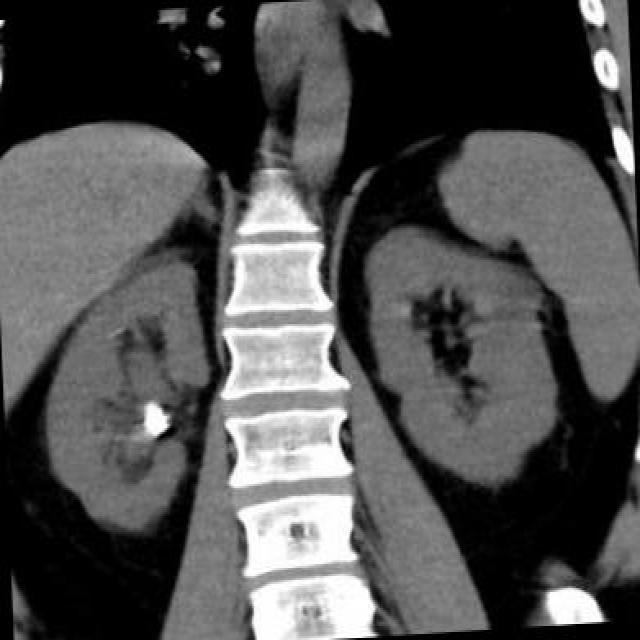Tas_Var: (142, 398, 171, 442)
